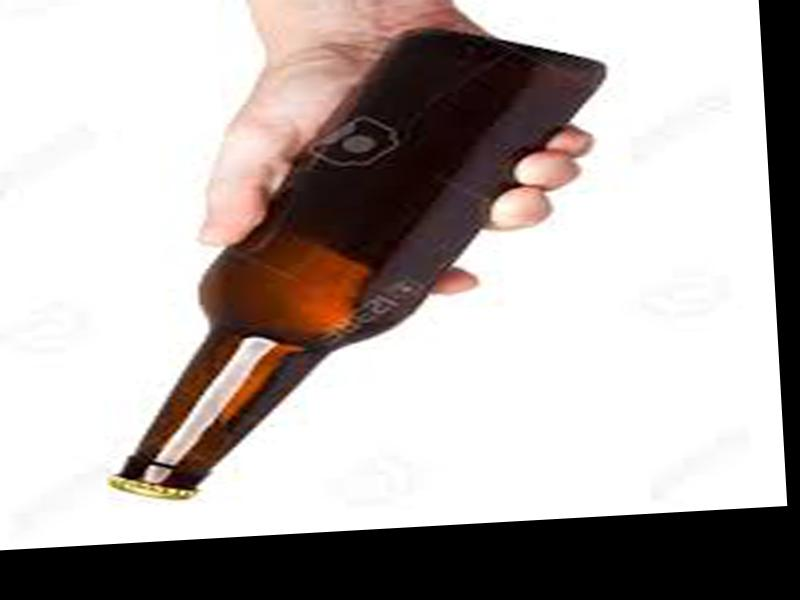Beer: (82, 20, 623, 503)
